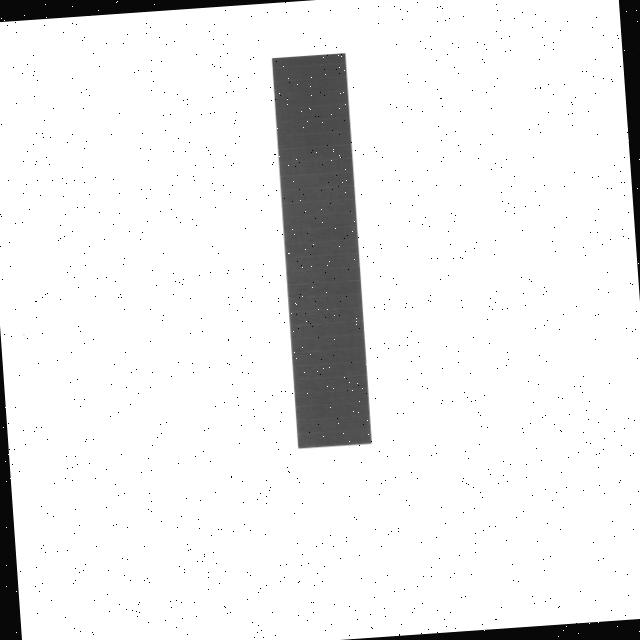i: (206, 22, 456, 486)
